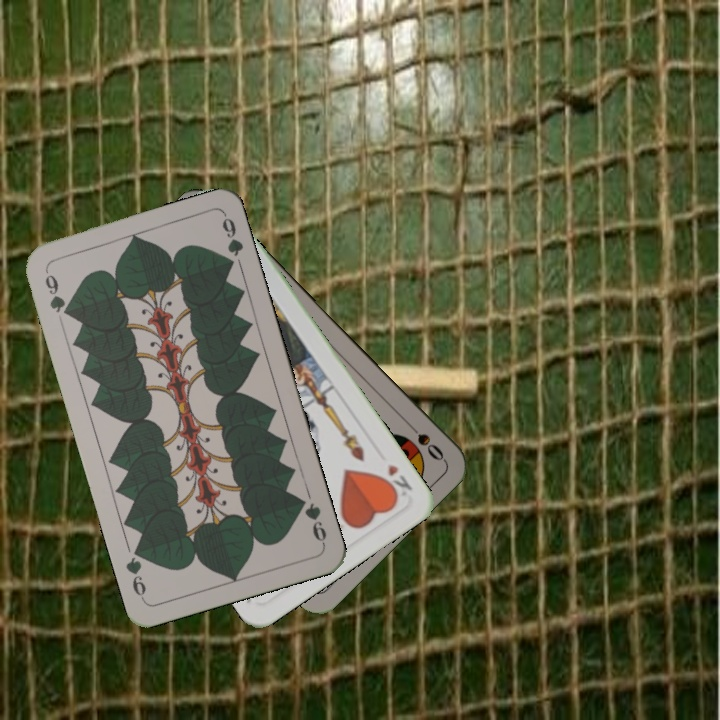G9: (293, 493, 329, 548), (41, 266, 73, 320)
HK: (377, 460, 415, 502)
SO: (401, 416, 447, 464)
